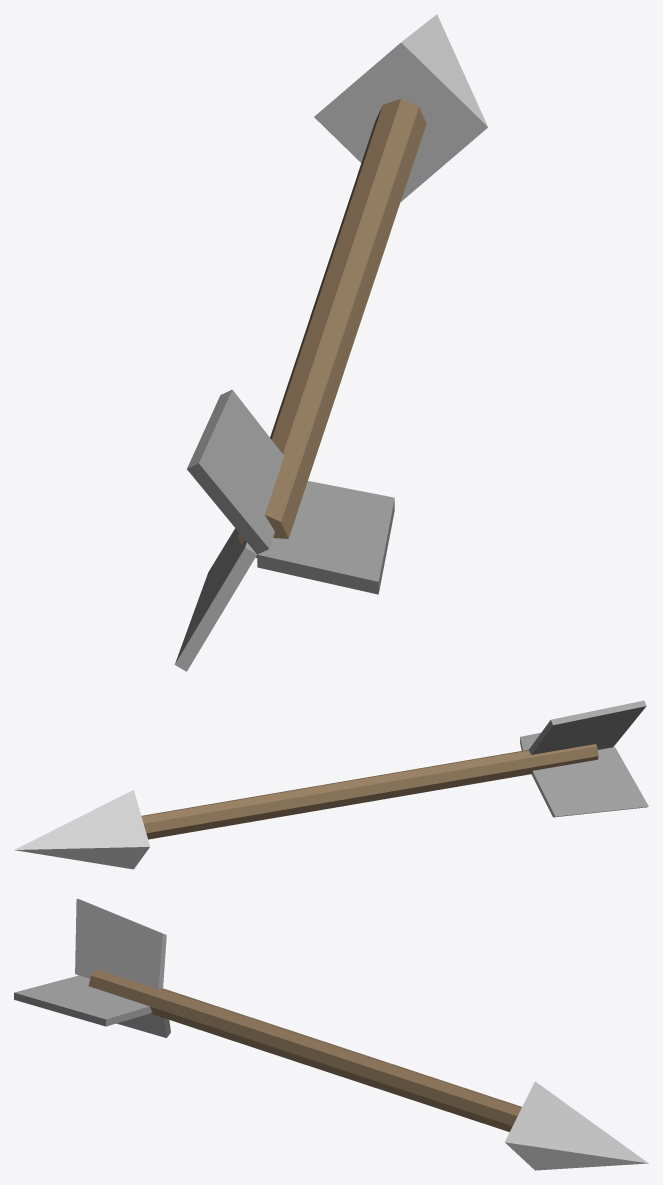
The model's file is Arrow.glb.
The picture shows the model from 3 angles, top to bottom: view 1: azimuth 30°, elevation 25°; view 2: azimuth 150°, elevation 25°; view 3: azimuth 270°, elevation 25°; orthographic projection. The views are drawn at different scales.
Visible parts, largest first — view 1: Arrow; view 2: Arrow; view 3: Arrow.
Part boxes in pixels (<box>): Arrow: <box>174,14,487,671</box>; Arrow: <box>14,700,648,869</box>; Arrow: <box>14,898,648,1170</box>.
Size of the model in its own units: 0.7534 by 0.1965 by 0.9661.
